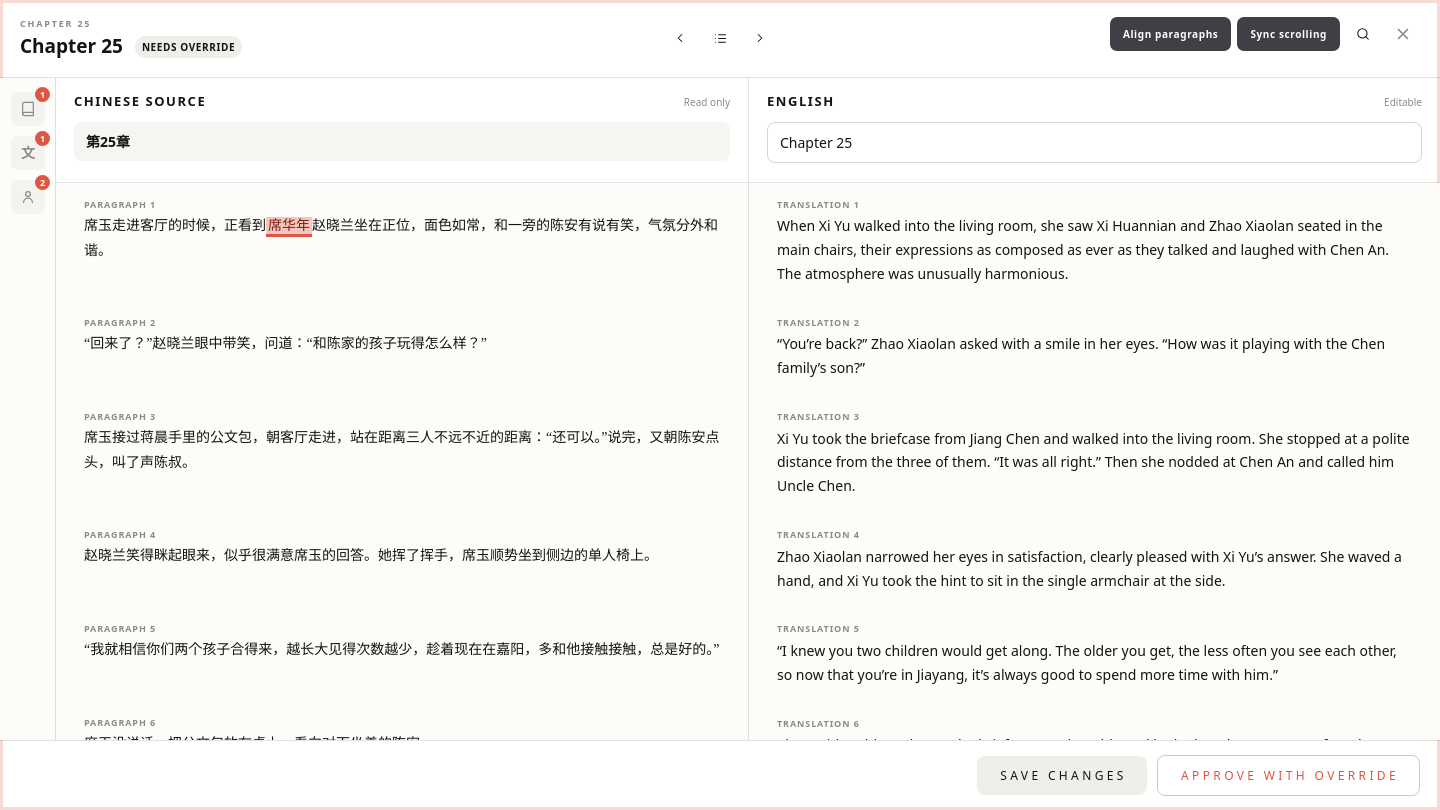
it: announces guarded actions through a polite status region
The image size is (1440, 810).
Step 1. Click the button "Save changes" → coordinates (1062, 776), box [977, 756, 1147, 795]
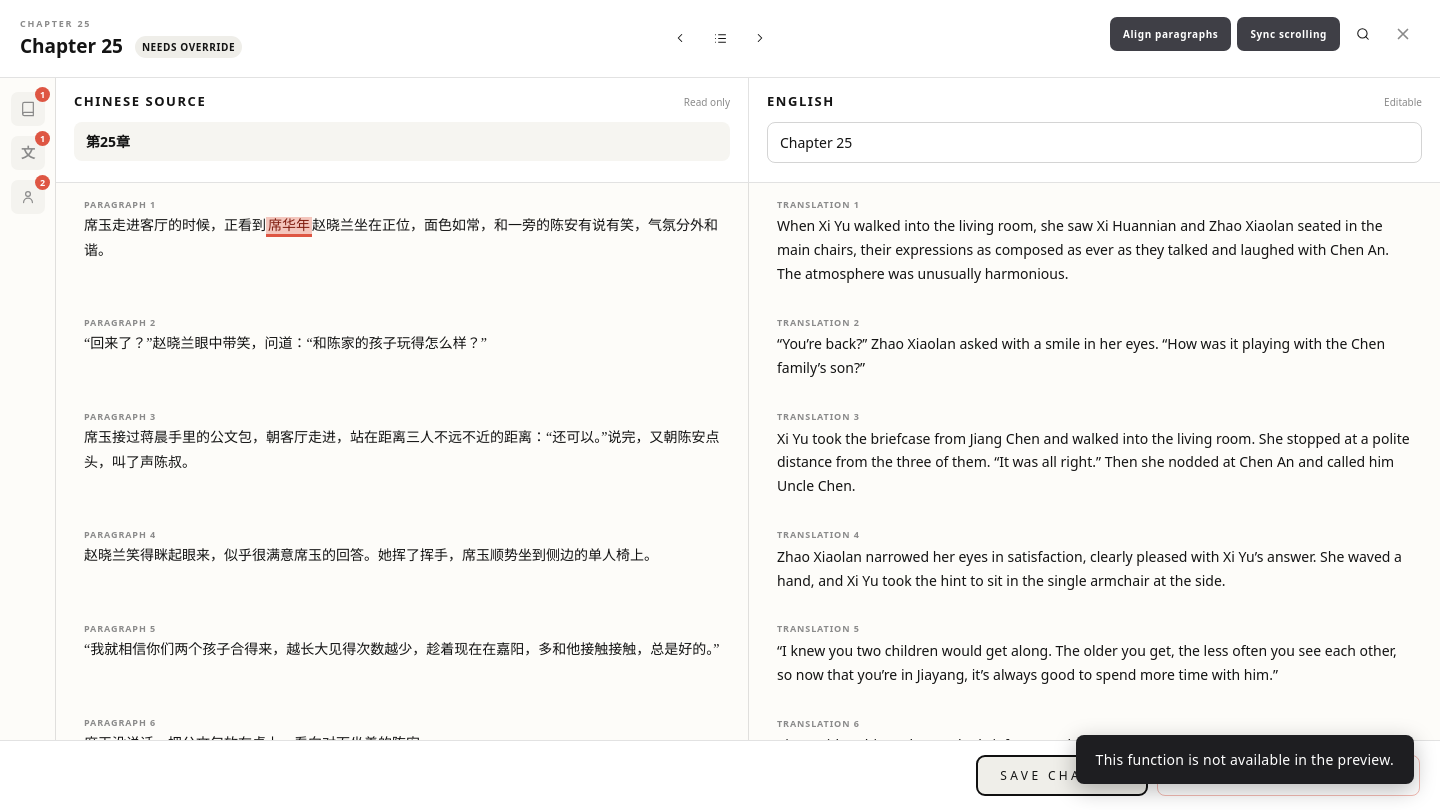
Check: the message reads "This function is not available in the preview.", box [1096, 750, 1394, 769]
